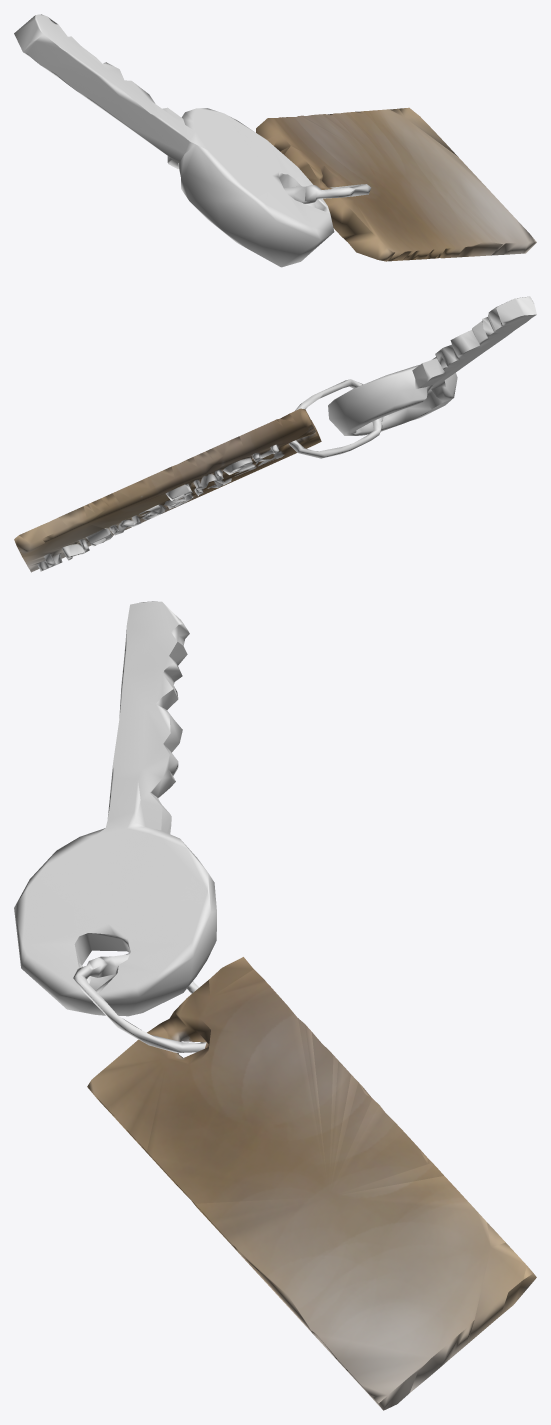
File: RetirementHomeKeys_LOD1.fbx
The picture shows the model from 3 angles, top to bottom: view 1: azimuth 30°, elevation 25°; view 2: azimuth 150°, elevation 25°; view 3: azimuth 270°, elevation 25°; orthographic projection. The views are drawn at different scales.
Parts seen in each view (by area): view 1: Layer_1; view 2: Layer_1; view 3: Layer_1.
Part boxes in pixels (x1,y1,x2,y2): Layer_1: (14,14,536,267); Layer_1: (14,296,536,572); Layer_1: (14,601,536,1410).
Size of the model in its own units: 0.5964 by 0.4001 by 0.4185.
Materials: 1 (1 with a texture image).
